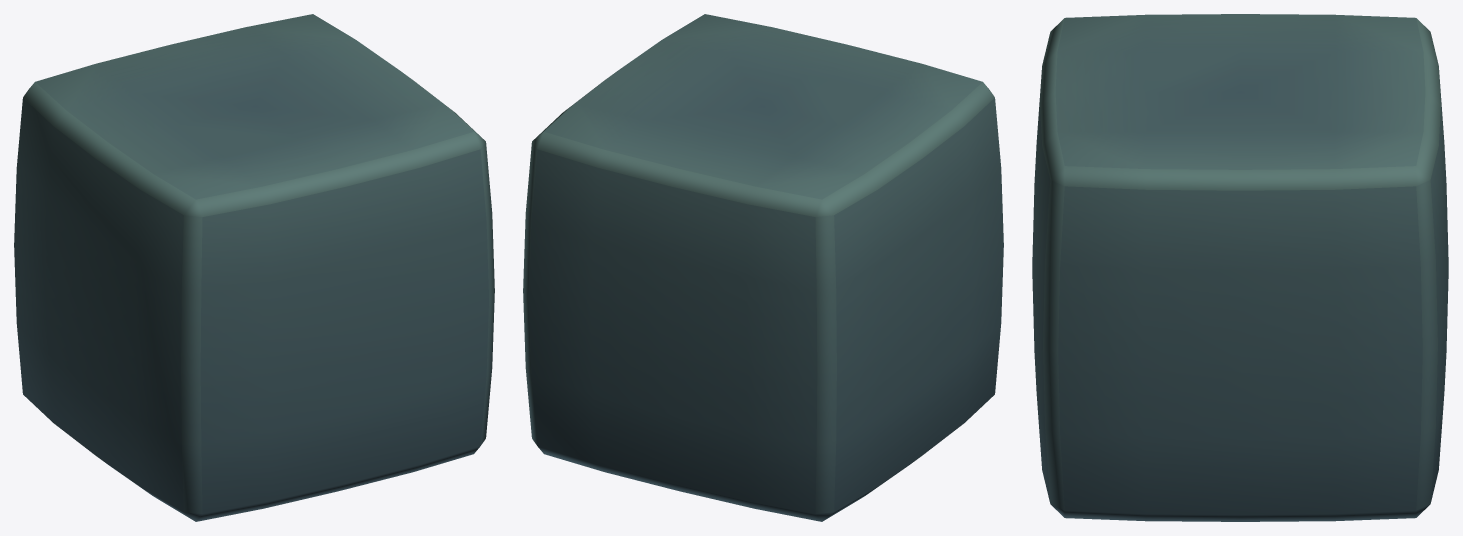
File: cube_07_shade_4_LOD_setup.fbx
3 renders of one model, left to right at view 1: azimuth 30°, elevation 25°; view 2: azimuth 150°, elevation 25°; view 3: azimuth 270°, elevation 25°, orthographic. The views are drawn at different scales.
Visible parts, largest first — view 1: cube_07_shade_4_LOD0; view 2: cube_07_shade_4_LOD0; view 3: cube_07_shade_4_LOD0.
Part boxes in pixels (x1=…): cube_07_shade_4_LOD0: x1=14, y1=14, x2=494, y2=521; cube_07_shade_4_LOD0: x1=523, y1=14, x2=1003, y2=521; cube_07_shade_4_LOD0: x1=1032, y1=14, x2=1448, y2=521.
Size of what is drawn, in the model's own units: 224 by 208 by 223.
